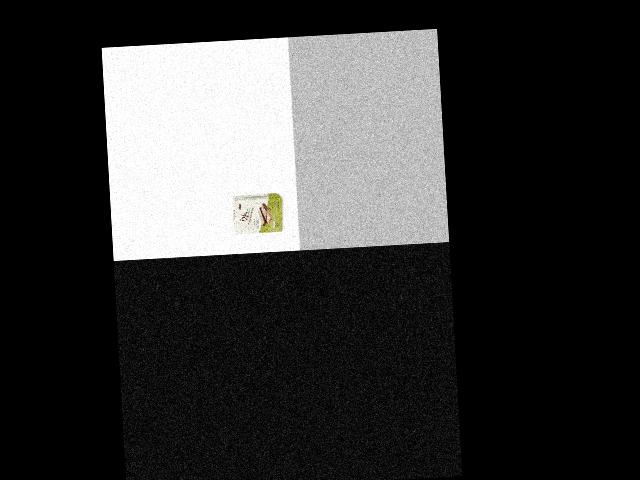chocolate: (230, 189, 286, 239)
